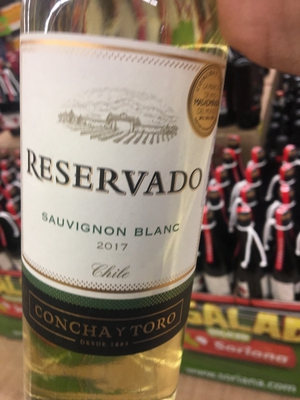reservado sauvignon blanc: (16, 9, 234, 400)
